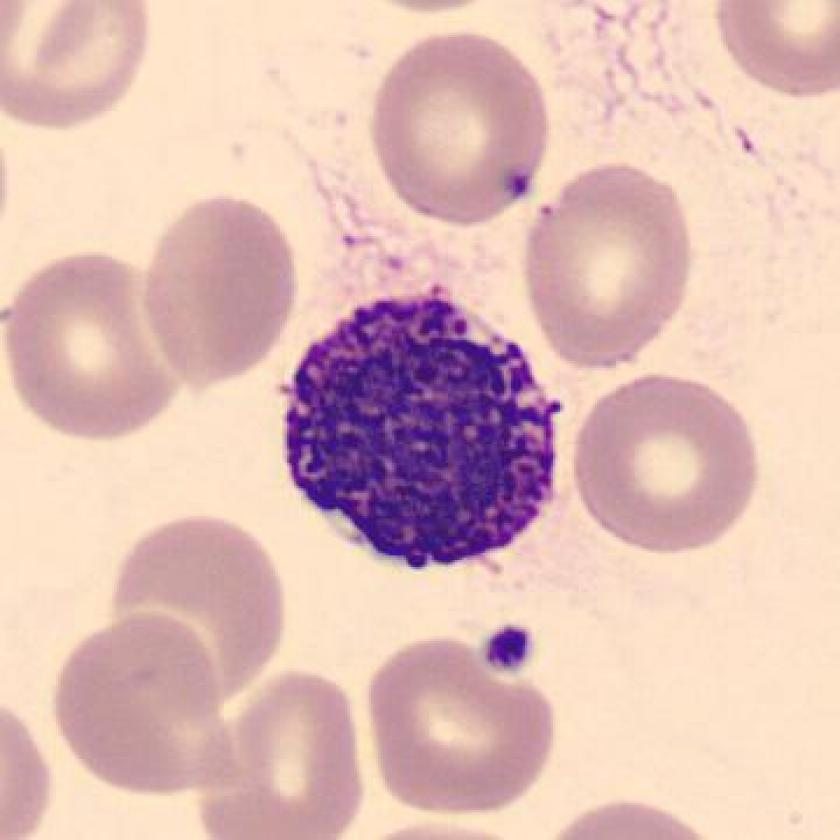basophil: (272, 286, 575, 575)
